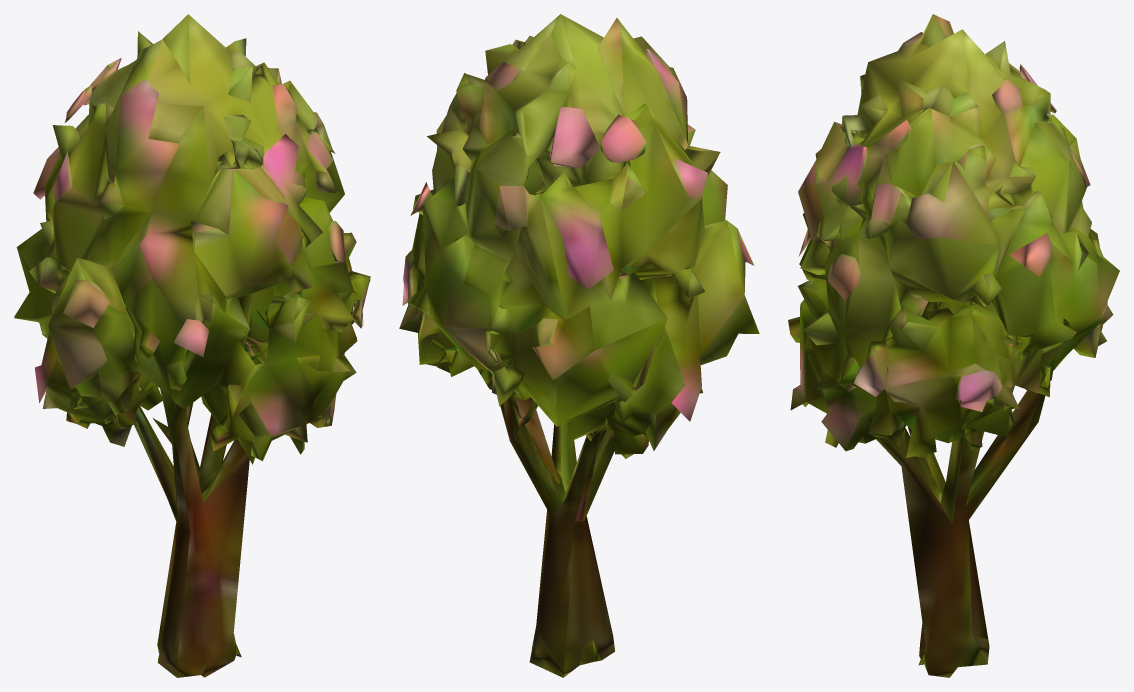
Rendered from tree.glb.
3 views of the same model, side by side, from view 1: azimuth 30°, elevation 25°; view 2: azimuth 150°, elevation 25°; view 3: azimuth 270°, elevation 25° (orthographic). The views are drawn at different scales.
Bounding box in the file's own units: 0.5137 × 0.9992 × 0.4719.
Materials: 1 (1 with a texture image).
